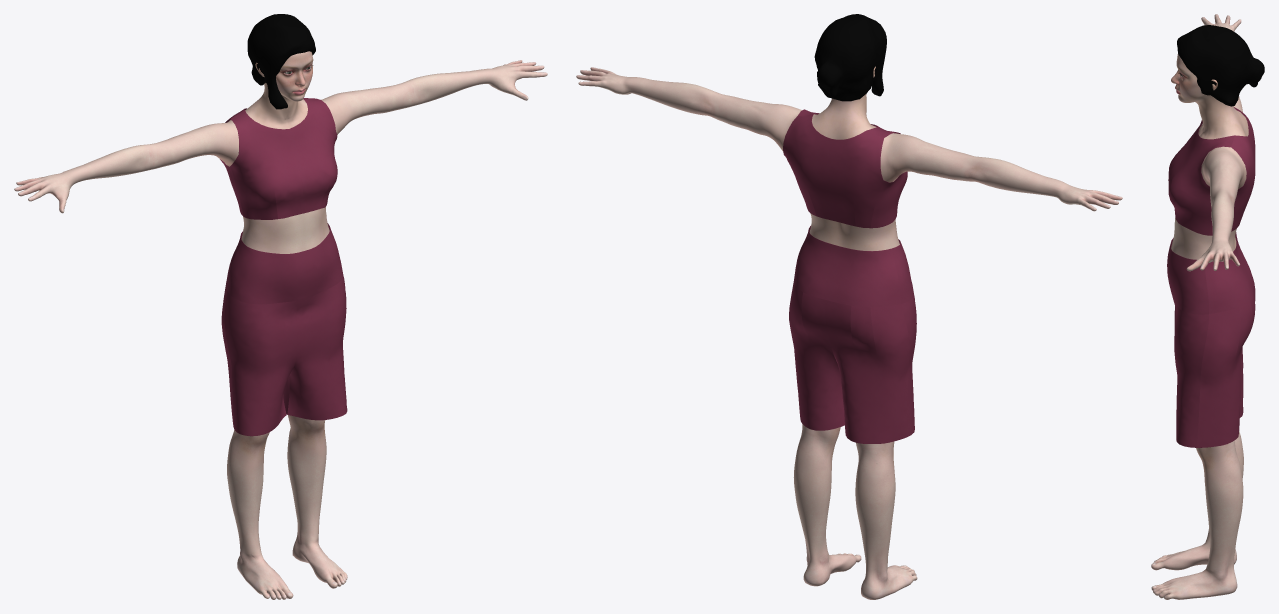
The model's file is random.obj.
3 views of the same model, side by side, from view 1: azimuth 30°, elevation 25°; view 2: azimuth 150°, elevation 25°; view 3: azimuth 270°, elevation 25° (orthographic). The views are drawn at different scales.
Size of the model in its own units: 1745 by 1762 by 329.
